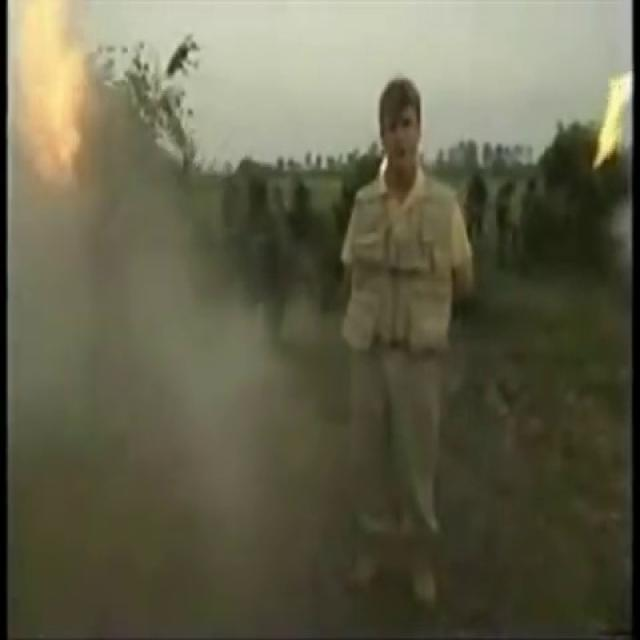Fire: (10, 0, 93, 172)
Smoke: (6, 1, 329, 636)
